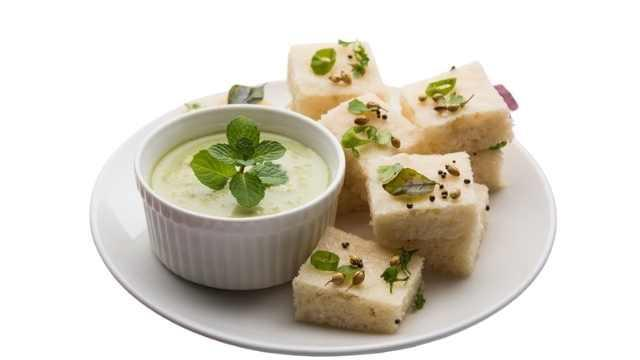dhokla: (290, 22, 520, 334)
